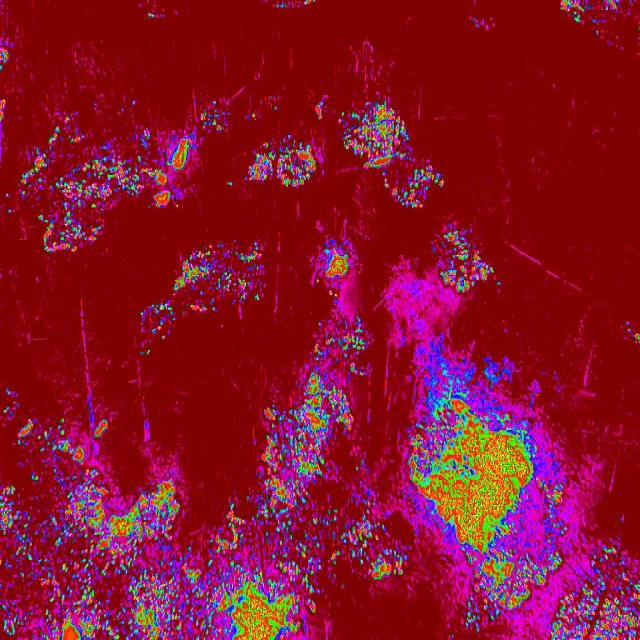fire: (399, 368, 576, 626), (264, 330, 376, 640), (5, 124, 196, 248), (0, 432, 109, 640), (108, 480, 181, 640), (182, 509, 264, 640), (150, 235, 262, 323), (538, 544, 640, 640), (434, 228, 512, 304), (348, 102, 420, 176), (245, 143, 325, 195), (390, 163, 456, 212), (304, 245, 356, 280)
